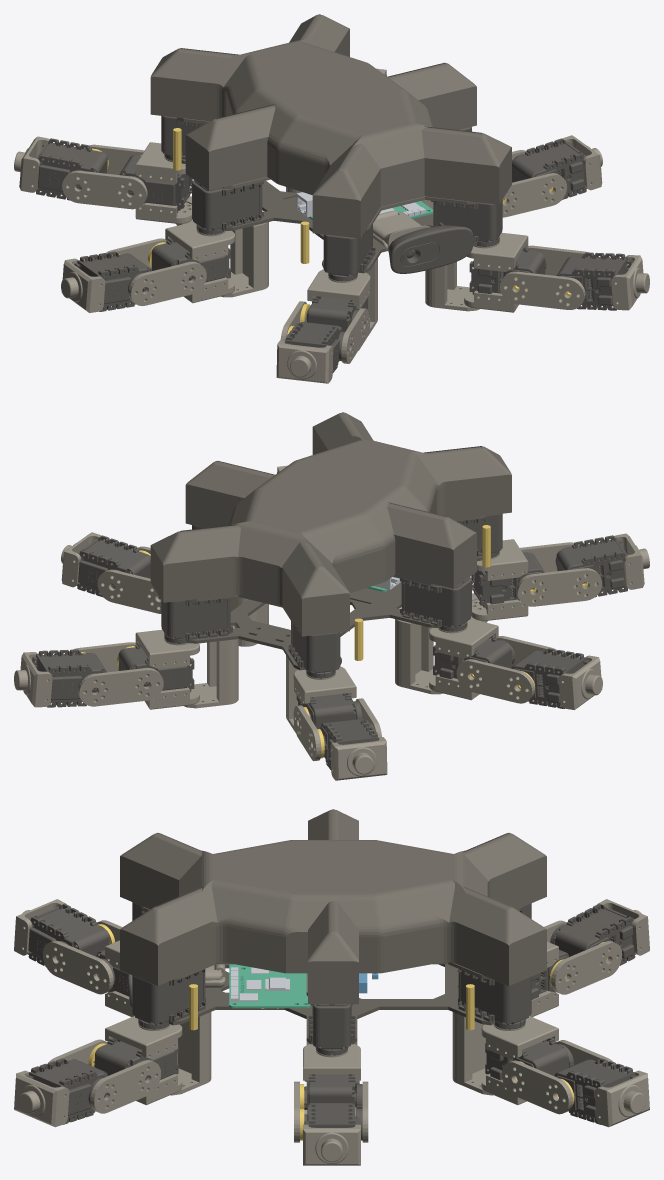
Rendered from hexaka-v3.glb.
3 renders of one model, top to bottom at view 1: azimuth 30°, elevation 25°; view 2: azimuth 150°, elevation 25°; view 3: azimuth 270°, elevation 25°, orthographic. The views are drawn at different scales.
Parts seen in each view (by area): view 1: Tutup_Robot, Coxa_1_bracket, Coxa_3_bracket, Femur_3_plates, Femur_2_plates, Camera_C270_Body, BodyCoxaServo_1, Femur_1_plates, Tibia_2_servo, Tibia_4_servo, Tibia_3_servo, Tibia_1_servo (+21 smaller); view 2: Tutup_Robot, Coxa_1_bracket, Coxa_5_bracket, Bottom_Plate, Femur_5_plates, Femur_0_plates, BodyCoxaServo_1, Femur_1_plates, BodyCoxaServo_5, Tibia_0_servo, Tibia_4_servo, Tibia_5_servo (+19 smaller); view 3: Tutup_Robot, Coxa_3_bracket, Coxa_5_bracket, Bottom_Plate, Tibia_2_servo, BodyCoxaServo_3, Tibia_0_servo, BodyCoxaServo_5, Femur_3_plates, Femur_5_plates, Femur_0_plates, Femur_2_plates (+19 smaller).
Boxes of the visible parts, bbox=[...] form: Tutup_Robot: bbox=[150, 14, 511, 238]; Coxa_1_bracket: bbox=[165, 222, 268, 303]; Coxa_3_bracket: bbox=[425, 232, 528, 312]; Femur_3_plates: bbox=[500, 245, 589, 309]; Femur_2_plates: bbox=[62, 144, 147, 209]; Camera_C270_Body: bbox=[388, 222, 473, 273]; BodyCoxaServo_1: bbox=[192, 180, 263, 234]; Femur_1_plates: bbox=[103, 238, 206, 305]; Tibia_2_servo: bbox=[34, 138, 107, 200]; Tibia_4_servo: bbox=[512, 138, 586, 199]; Tibia_3_servo: bbox=[556, 252, 631, 310]; Tibia_1_servo: bbox=[74, 251, 151, 311]; Tutup_Robot: bbox=[150, 412, 511, 636]; Coxa_1_bracket: bbox=[395, 619, 498, 700]; Coxa_5_bracket: bbox=[135, 625, 238, 709]; Bottom_Plate: bbox=[186, 556, 482, 670]; Femur_5_plates: bbox=[69, 642, 163, 706]; Femur_0_plates: bbox=[516, 542, 602, 606]; BodyCoxaServo_1: bbox=[400, 577, 471, 631]; Femur_1_plates: bbox=[456, 636, 560, 703]; BodyCoxaServo_5: bbox=[161, 597, 232, 643]; Tibia_0_servo: bbox=[555, 535, 629, 597]; Tibia_4_servo: bbox=[77, 535, 150, 597]; Tibia_5_servo: bbox=[32, 649, 106, 707]; Tutup_Robot: bbox=[120, 809, 546, 1004]; Coxa_3_bracket: bbox=[105, 1012, 211, 1105]; Coxa_5_bracket: bbox=[452, 1012, 558, 1105]; Bottom_Plate: bbox=[169, 964, 494, 1044]; Tibia_2_servo: bbox=[550, 903, 635, 965]; BodyCoxaServo_3: bbox=[132, 969, 205, 1029]; Tibia_0_servo: bbox=[28, 903, 110, 966]; BodyCoxaServo_5: bbox=[458, 969, 531, 1029]; Femur_3_plates: bbox=[47, 1039, 160, 1113]; Femur_5_plates: bbox=[502, 1040, 613, 1114]; Femur_0_plates: bbox=[42, 920, 122, 994]; Femur_2_plates: bbox=[544, 920, 622, 994].
Size of the model in its own units: 0.4587 by 0.1415 by 0.4367.
